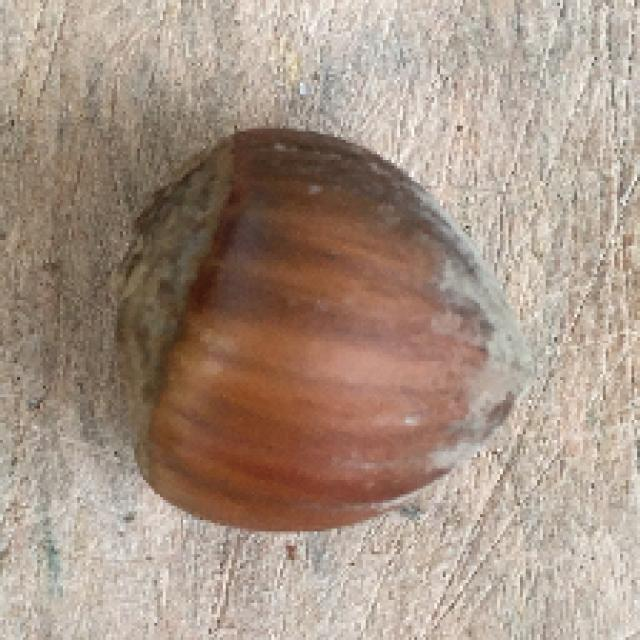qualityHazelnut: (110, 124, 533, 542)
